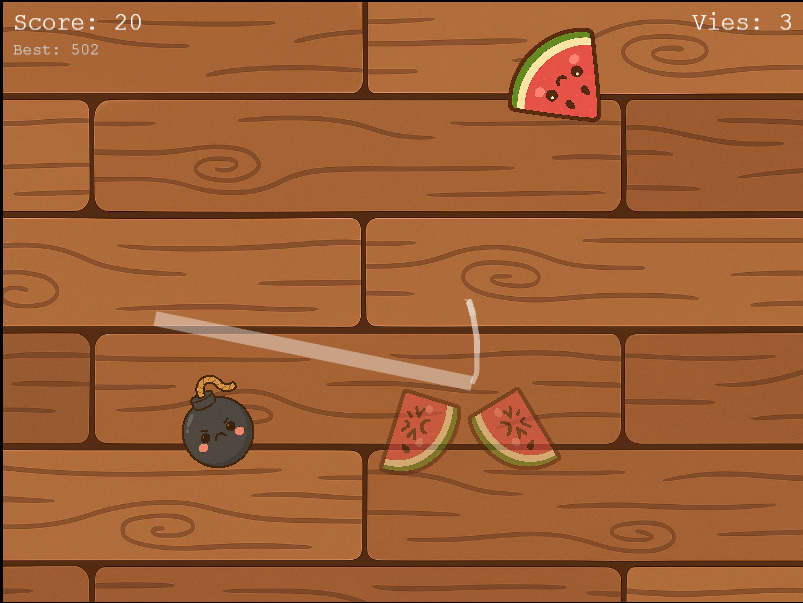bomb: (177, 374, 262, 471)
fruit: (504, 25, 606, 127)
